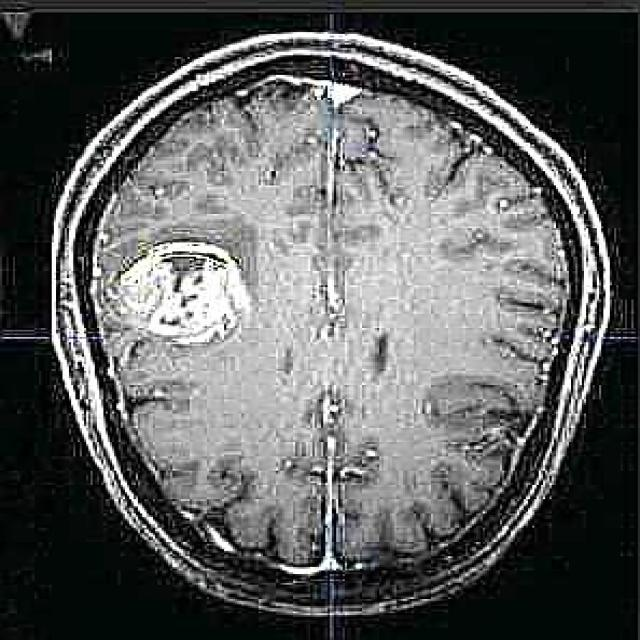Tumor-Cell: (104, 223, 256, 361)
